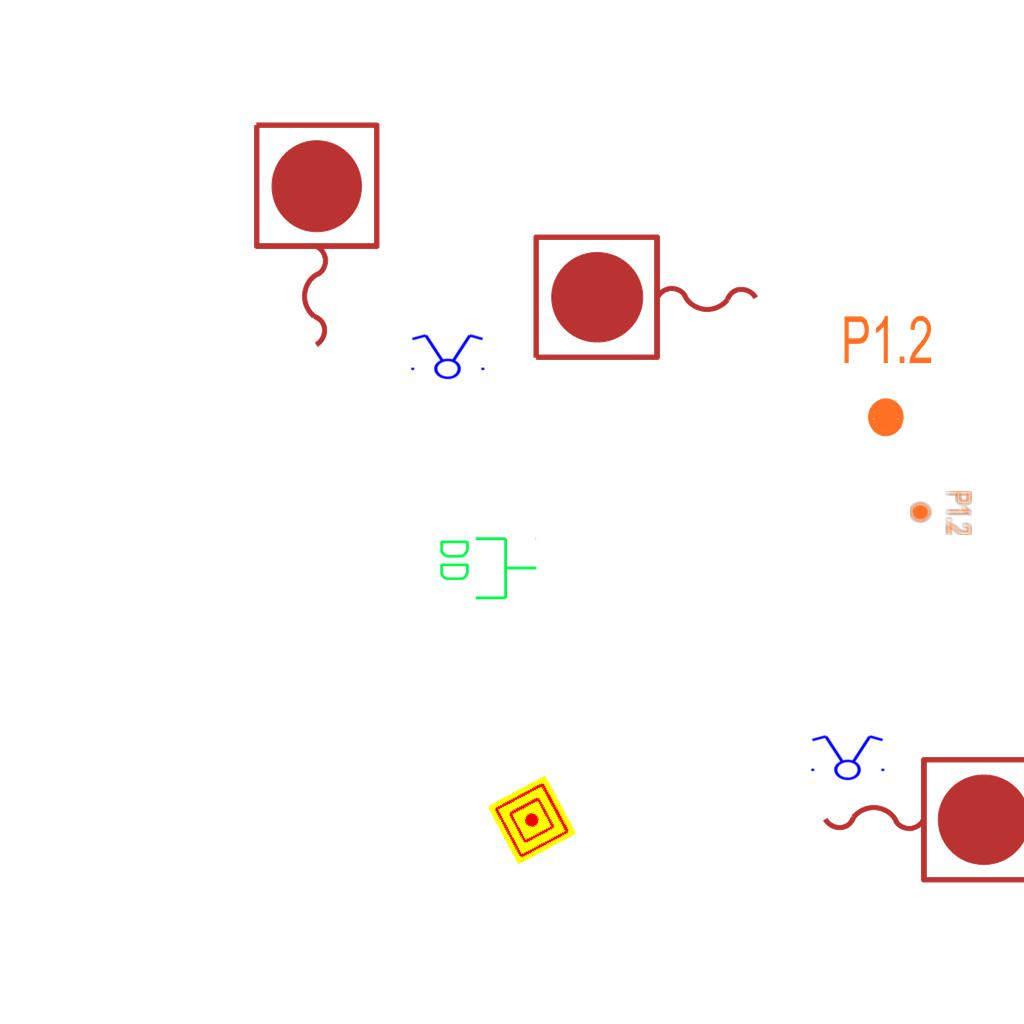Datenanschluss_zweifach: (436, 533, 539, 602)
Downlight_LED_Einbauleuchten_Flur: (841, 312, 934, 440), (908, 489, 974, 537)
NAM-Nichtautomatischer_Melder: (487, 775, 577, 865)
Serienschalter: (805, 733, 889, 781), (405, 332, 489, 380)
Zugtaster: (243, 114, 387, 358), (525, 227, 769, 371), (812, 746, 1024, 890)
